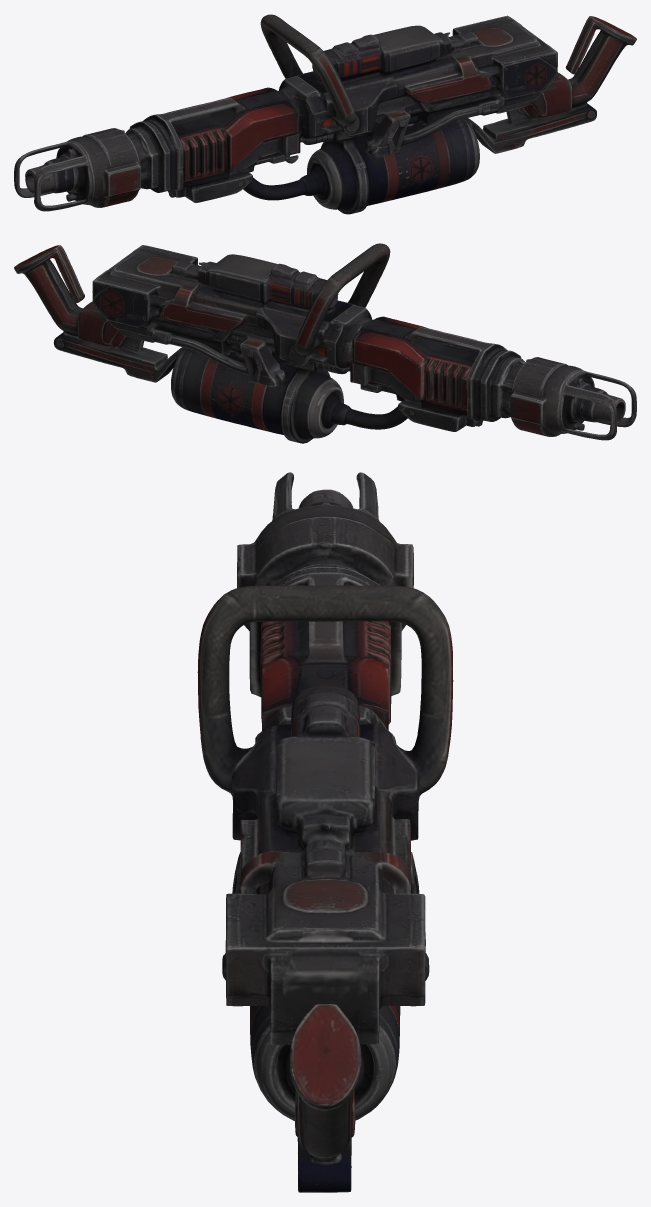
File: flamethrower.glb
3 renders of one model, top to bottom at view 1: azimuth 30°, elevation 25°; view 2: azimuth 150°, elevation 25°; view 3: azimuth 270°, elevation 25°, orthographic. The views are drawn at different scales.
Bounding box in the file's own units: 1.9 × 0.5722 × 0.3438.
Materials: 1 (1 with a texture image).
